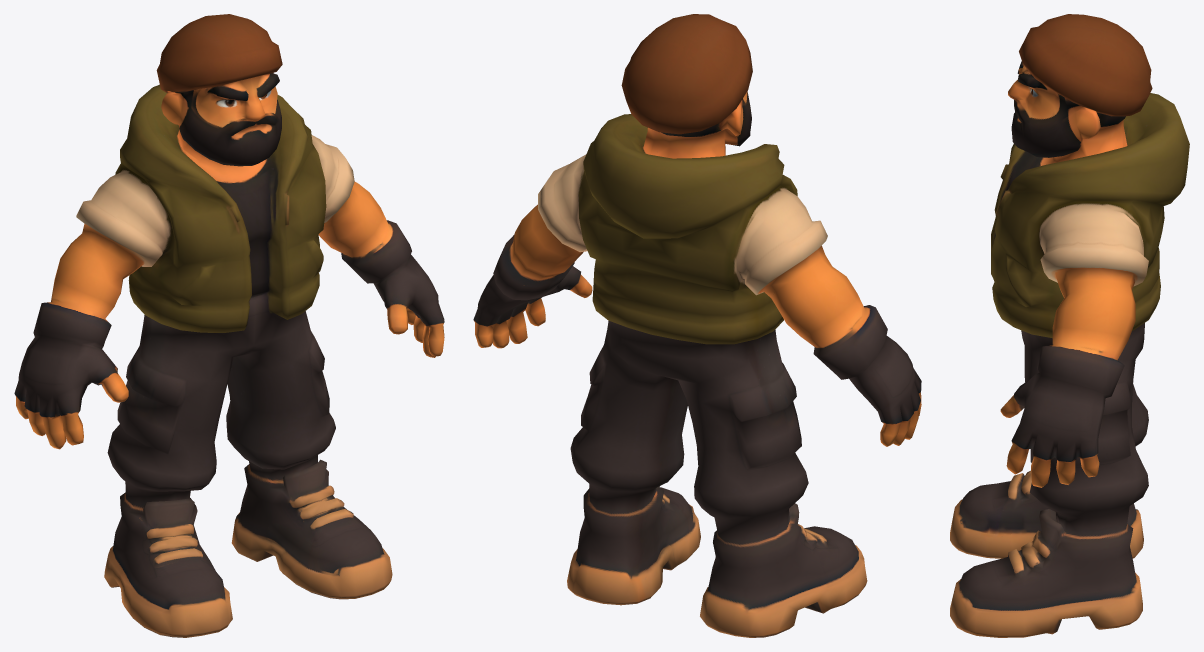
Rendered from tank.glb.
3 renders of one model, left to right at view 1: azimuth 30°, elevation 25°; view 2: azimuth 150°, elevation 25°; view 3: azimuth 270°, elevation 25°, orthographic. The views are drawn at different scales.
Visible parts, largest first — view 1: tripo_node_6e72b062-836a-4896-a806-83484df80ae6; view 2: tripo_node_6e72b062-836a-4896-a806-83484df80ae6; view 3: tripo_node_6e72b062-836a-4896-a806-83484df80ae6.
Boxes of the visible parts, x1,y1,x2,y2 form: tripo_node_6e72b062-836a-4896-a806-83484df80ae6: (14, 14, 444, 637); tripo_node_6e72b062-836a-4896-a806-83484df80ae6: (473, 14, 921, 637); tripo_node_6e72b062-836a-4896-a806-83484df80ae6: (950, 14, 1189, 637).
Size of the model in its own units: 0.7754 by 0.998 by 0.3887.
Materials: 1 (1 with a texture image).
